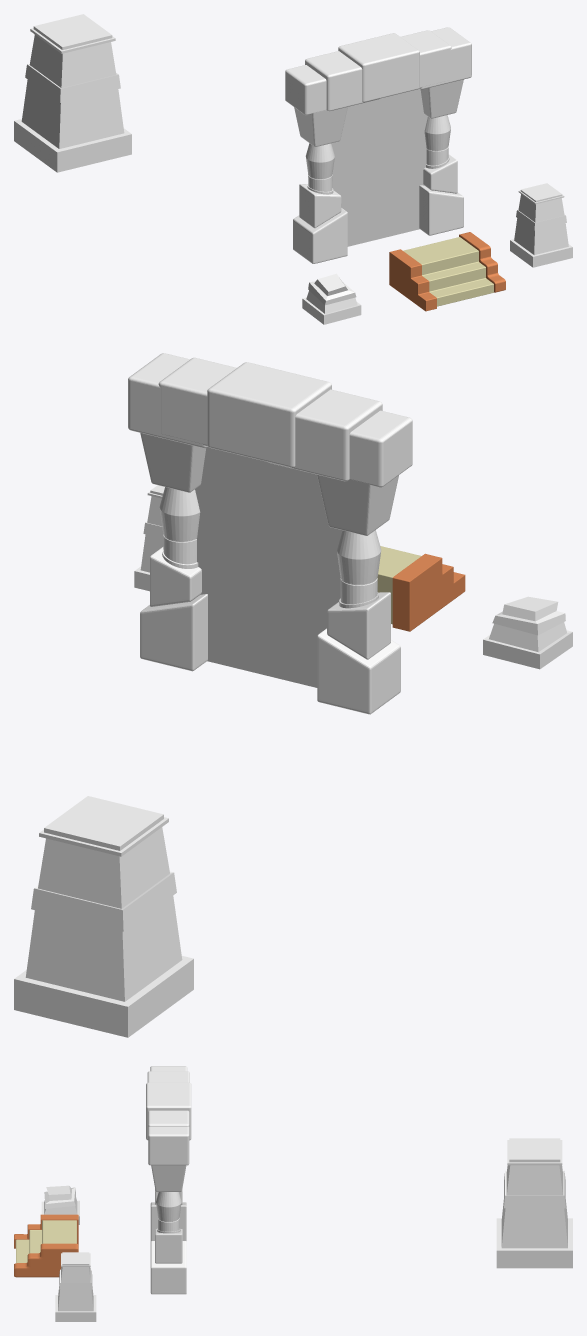
The model's file is Entrance.fbx.
3 renders of one model, top to bottom at view 1: azimuth 30°, elevation 25°; view 2: azimuth 150°, elevation 25°; view 3: azimuth 270°, elevation 25°, orthographic. The views are drawn at different scales.
Parts seen in each view (by area): view 1: Cube.011, Cube.008, Cube.004, Cube.006, Cube, Cube.001, Cube.005, Cube.007, Cube.002; view 2: Cube.011, Cube.008, Cube.004, Cube.006, Cube.001, Cube, Cube.007, Cube.005; view 3: Cube.011, Cube.004, Cube.001, Cube.005, Cube, Cube.002, Cube.007, Cube.006.
Boxes of the visible parts, x1=… form: Cube.011: x1=14, y1=14, x2=131, y2=172; Cube.008: x1=331, y1=89, x2=427, y2=246; Cube.004: x1=285, y1=27, x2=471, y2=115; Cube.006: x1=293, y1=107, x2=347, y2=263; Cube: x1=389, y1=237, x2=493, y2=311; Cube.001: x1=419, y1=79, x2=463, y2=235; Cube.005: x1=510, y1=183, x2=572, y2=267; Cube.007: x1=302, y1=273, x2=361, y2=324; Cube.002: x1=459, y1=232, x2=505, y2=292; Cube.011: x1=14, y1=796, x2=193, y2=1037; Cube.008: x1=195, y1=447, x2=341, y2=687; Cube.004: x1=128, y1=353, x2=412, y2=487; Cube.006: x1=317, y1=474, x2=400, y2=714; Cube.001: x1=140, y1=433, x2=207, y2=671; Cube: x1=377, y1=546, x2=465, y2=631; Cube.007: x1=483, y1=596, x2=572, y2=669; Cube.005: x1=134, y1=485, x2=164, y2=591; Cube.011: x1=496, y1=1138, x2=572, y2=1268; Cube.004: x1=146, y1=1066, x2=191, y2=1165; Cube.001: x1=150, y1=1165, x2=186, y2=1294; Cube.005: x1=55, y1=1252, x2=96, y2=1321; Cube: x1=14, y1=1214, x2=78, y2=1263; Cube.002: x1=14, y1=1243, x2=78, y2=1277; Cube.007: x1=41, y1=1185, x2=79, y2=1224; Cube.006: x1=150, y1=1188, x2=186, y2=1241.
Size of the model in its own units: 839 by 684 by 1729.
